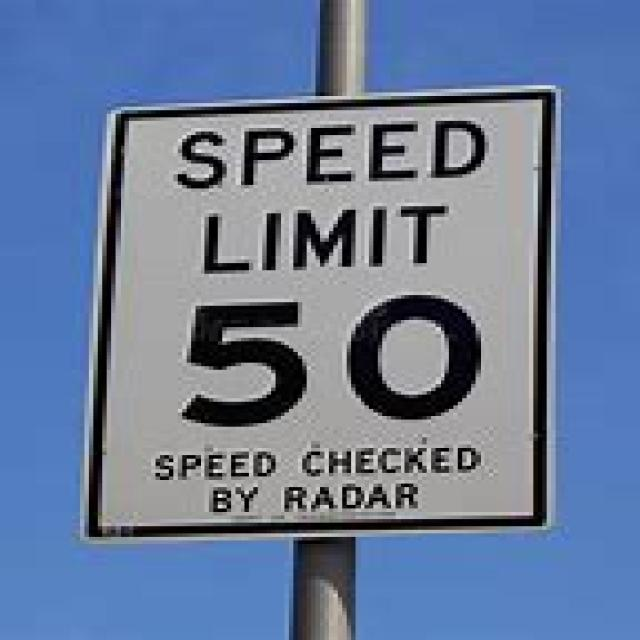speedLimit50: (96, 105, 566, 517)
